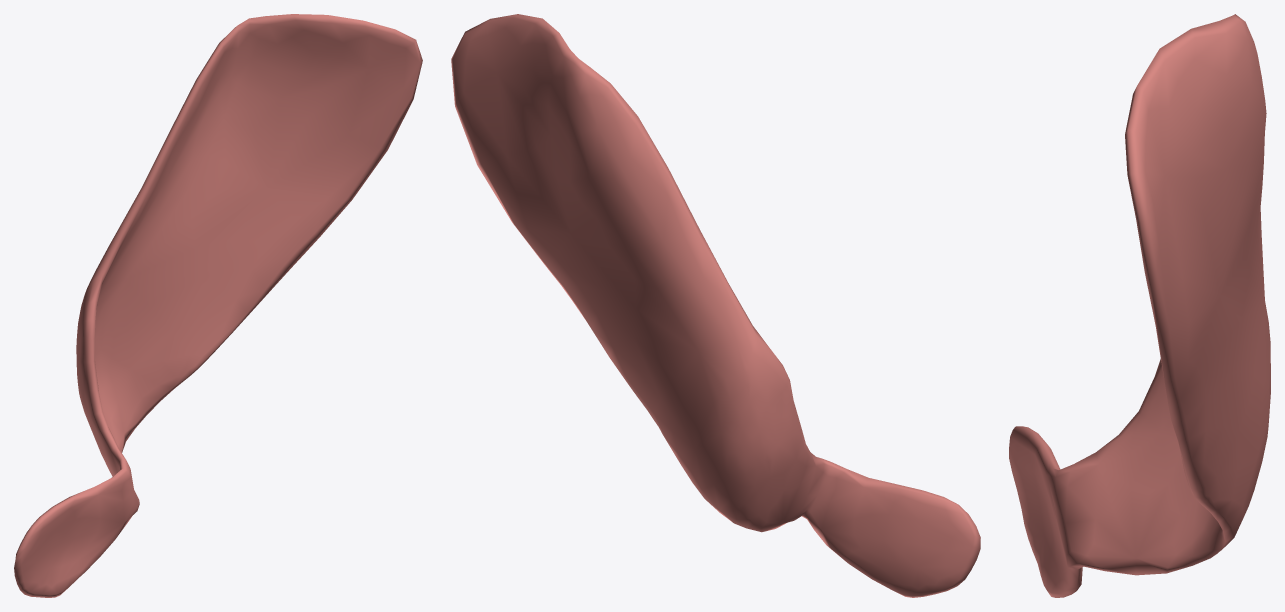
3 renders of one model, left to right at view 1: azimuth 30°, elevation 25°; view 2: azimuth 150°, elevation 25°; view 3: azimuth 270°, elevation 25°, orthographic. The views are drawn at different scales.
Visible parts, largest first — view 1: ZA_b15cae5e8671b32d; view 2: ZA_b15cae5e8671b32d; view 3: ZA_b15cae5e8671b32d.
Part boxes in pixels (x1=…): ZA_b15cae5e8671b32d: x1=14, y1=14, x2=422, y2=597; ZA_b15cae5e8671b32d: x1=451, y1=14, x2=980, y2=597; ZA_b15cae5e8671b32d: x1=1009, y1=14, x2=1270, y2=597.
Bounding box in the file's own units: 0.0227 × 0.0234 × 0.00706.
